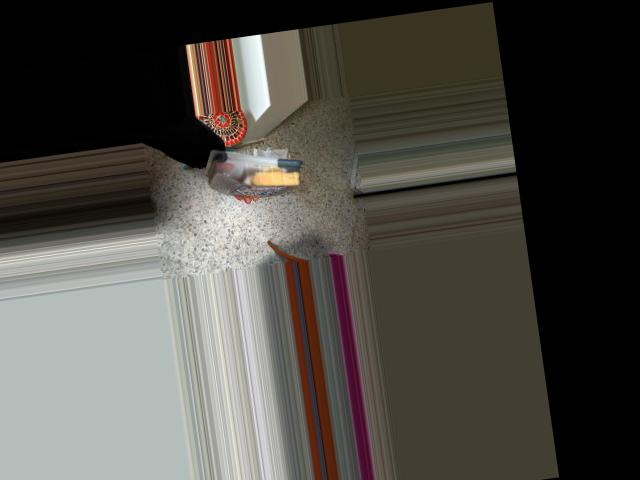cheese: (204, 134, 306, 206)
